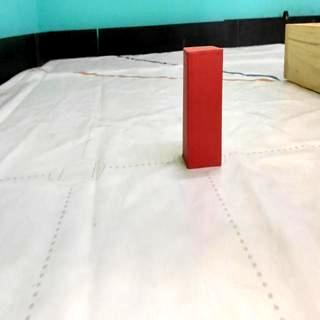redbox: (183, 45, 224, 170)
